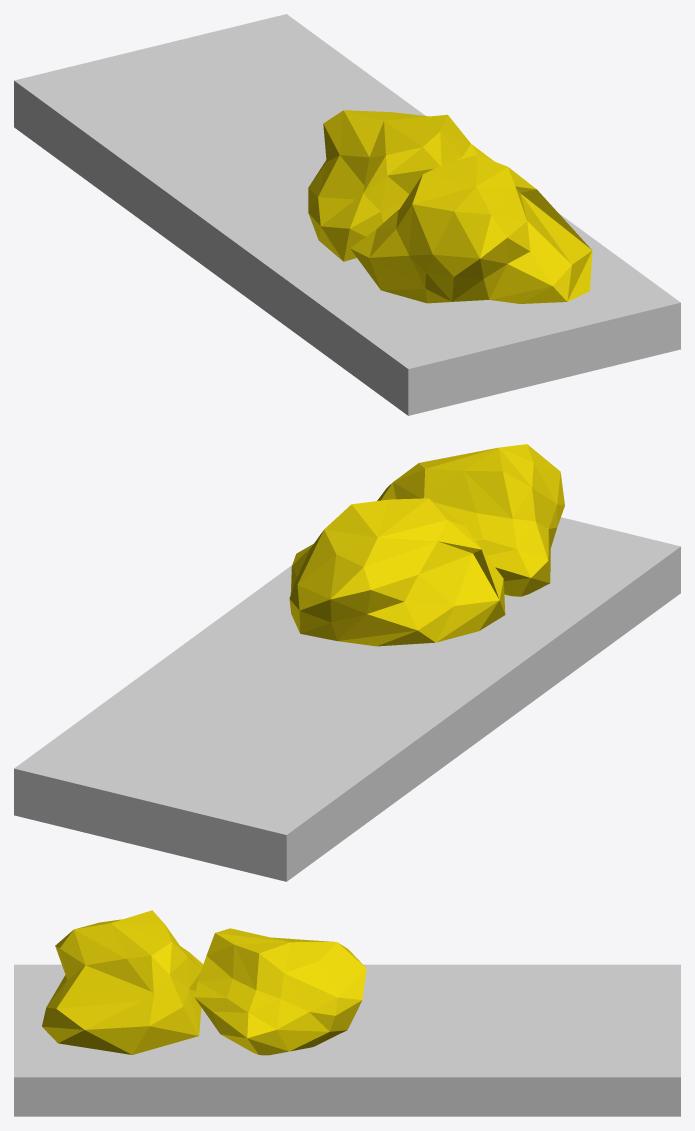
The model's file is Flowerbed_Complete.glb.
3 views of the same model, one above another, from view 1: azimuth 30°, elevation 25°; view 2: azimuth 150°, elevation 25°; view 3: azimuth 270°, elevation 25° (orthographic). The views are drawn at different scales.
Visible parts, largest first — view 1: Flowerbed_Complete; view 2: Flowerbed_Complete; view 3: Flowerbed_Complete.
Boxes of the visible parts, bbox=[...] form: Flowerbed_Complete: bbox=[14, 14, 680, 415]; Flowerbed_Complete: bbox=[14, 444, 680, 881]; Flowerbed_Complete: bbox=[14, 910, 680, 1116].
Bounding box in the file's own units: 0.9237 × 0.5123 × 2.31.
